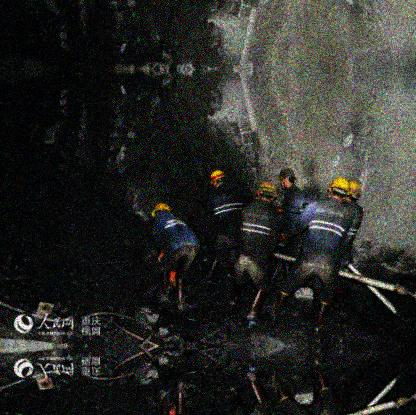helmet: (327, 177, 353, 202), (255, 181, 277, 203), (278, 168, 297, 190), (209, 169, 227, 190), (151, 202, 171, 219)
